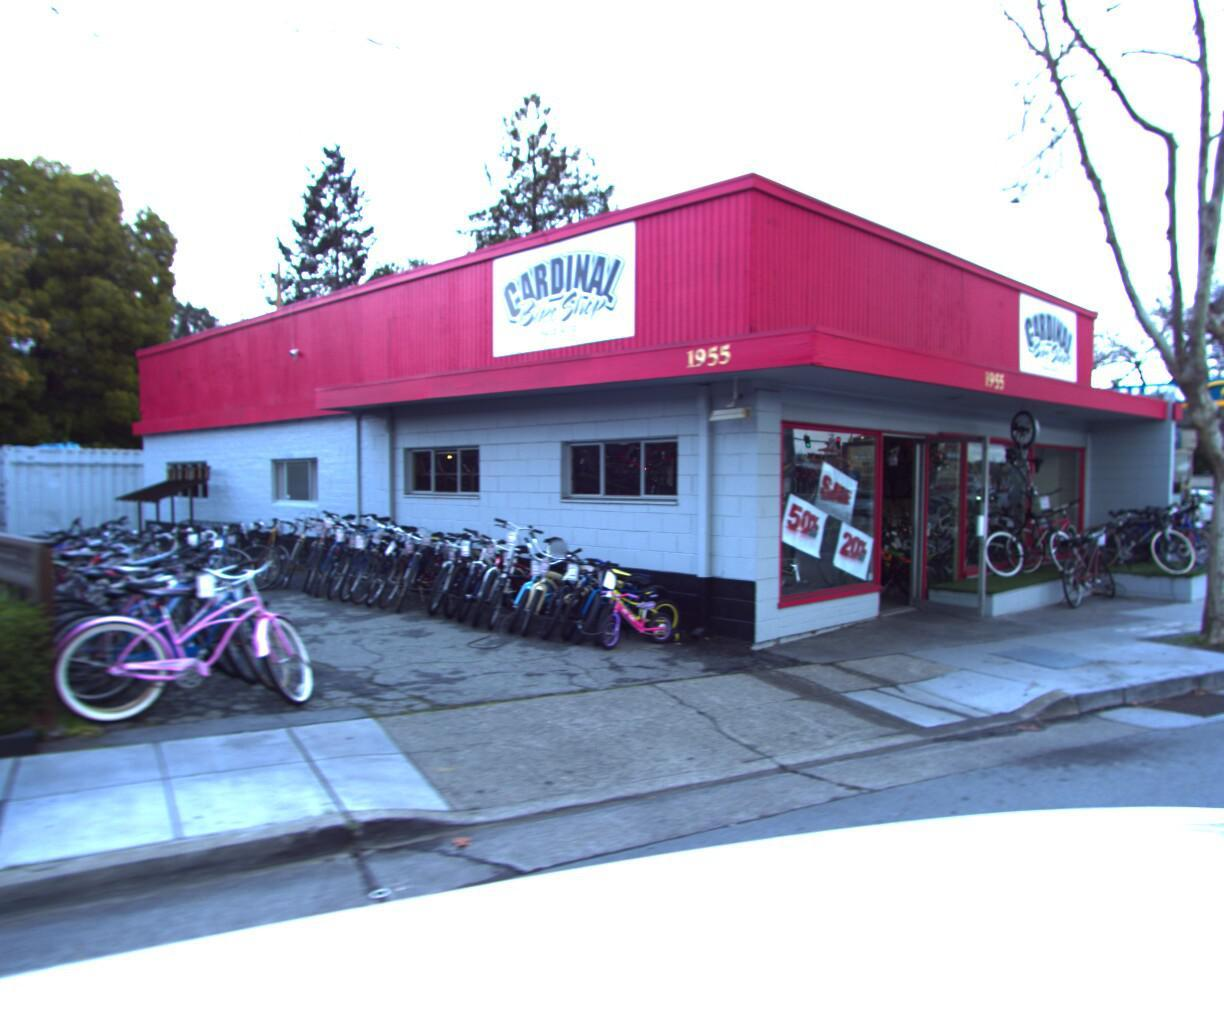bicycle: (70, 521, 342, 752), (38, 542, 294, 733), (6, 538, 263, 716), (0, 530, 225, 695), (0, 523, 198, 675), (0, 520, 181, 662), (0, 519, 161, 651), (0, 517, 149, 642), (467, 515, 614, 639), (433, 514, 582, 633), (397, 513, 542, 626), (514, 534, 658, 646), (0, 515, 134, 633), (358, 513, 498, 620), (330, 511, 466, 615), (557, 546, 692, 646), (0, 514, 122, 622), (0, 513, 128, 615), (311, 510, 443, 609), (291, 509, 418, 604), (282, 508, 404, 598), (60, 514, 170, 611), (1069, 494, 1210, 570), (1078, 493, 1217, 568), (91, 513, 201, 607), (1090, 493, 1224, 565), (127, 513, 234, 603), (161, 511, 267, 600), (1099, 493, 1224, 564), (207, 507, 309, 593), (1117, 482, 1224, 562), (1022, 518, 1118, 602), (1013, 491, 1090, 568)
car: (1000, 472, 1224, 524)
